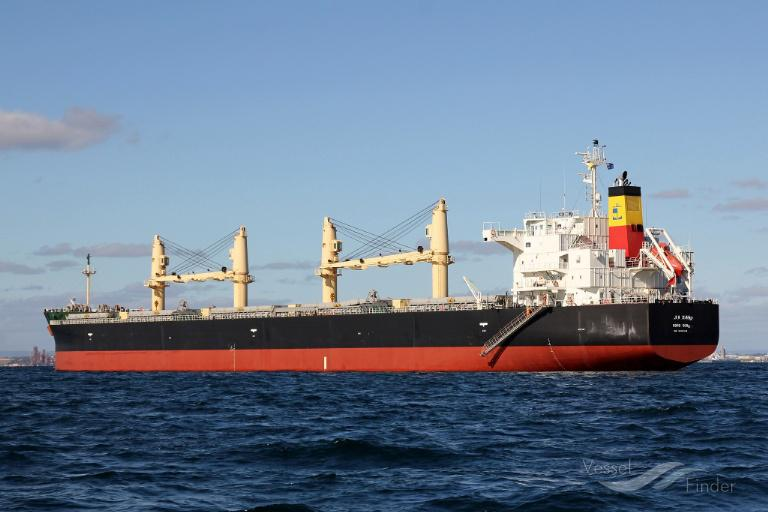OCR: (668, 312, 700, 342)
